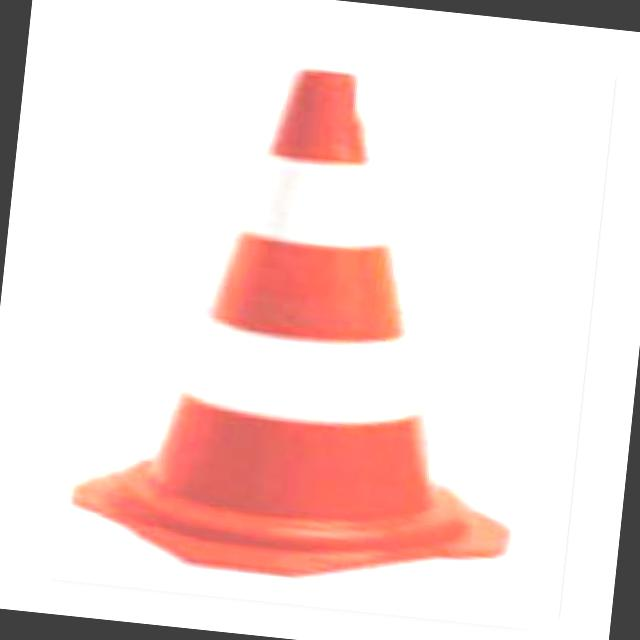cone: (106, 49, 568, 601)
